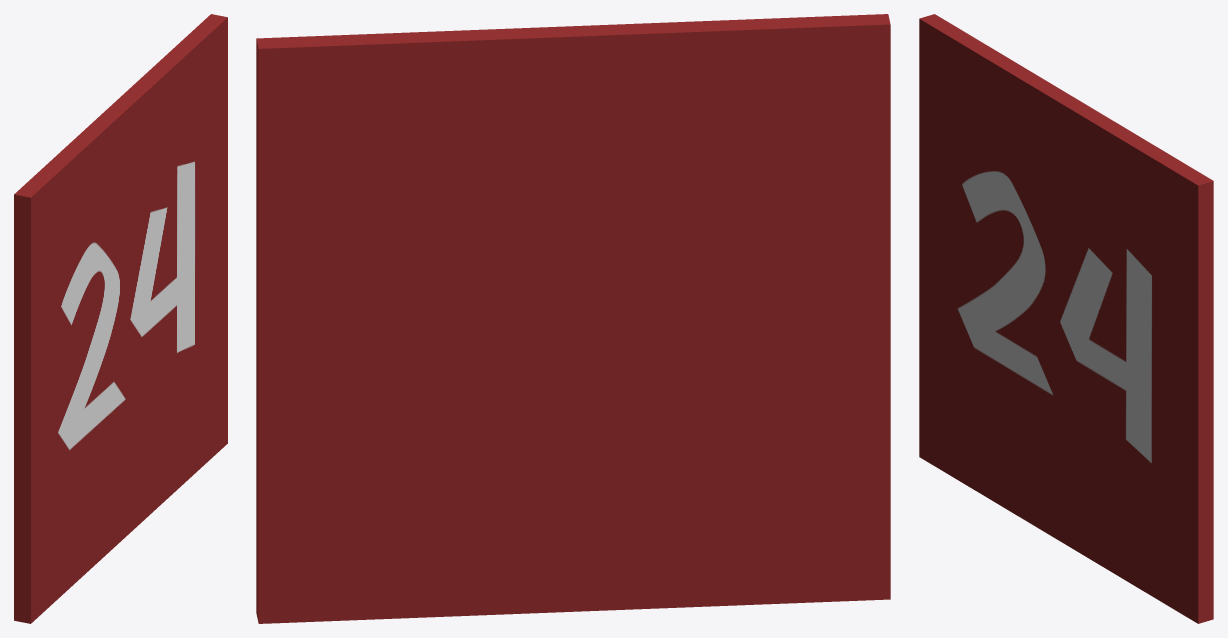
File: flap23.glb
3 renders of one model, left to right at view 1: azimuth 30°, elevation 25°; view 2: azimuth 150°, elevation 25°; view 3: azimuth 270°, elevation 25°, orthographic. The views are drawn at different scales.
Parts seen in each view (by area): view 1: flap.023; view 2: flap.023; view 3: flap.023.
Part boxes in pixels (left/top/right/bottom): flap.023: left=14, top=14, right=227, bottom=623; flap.023: left=256, top=14, right=890, bottom=623; flap.023: left=919, top=14, right=1213, bottom=623.
Size of the model in its own units: 0.2099 by 0.25 by 0.1522.
1 material, 1 textured.
